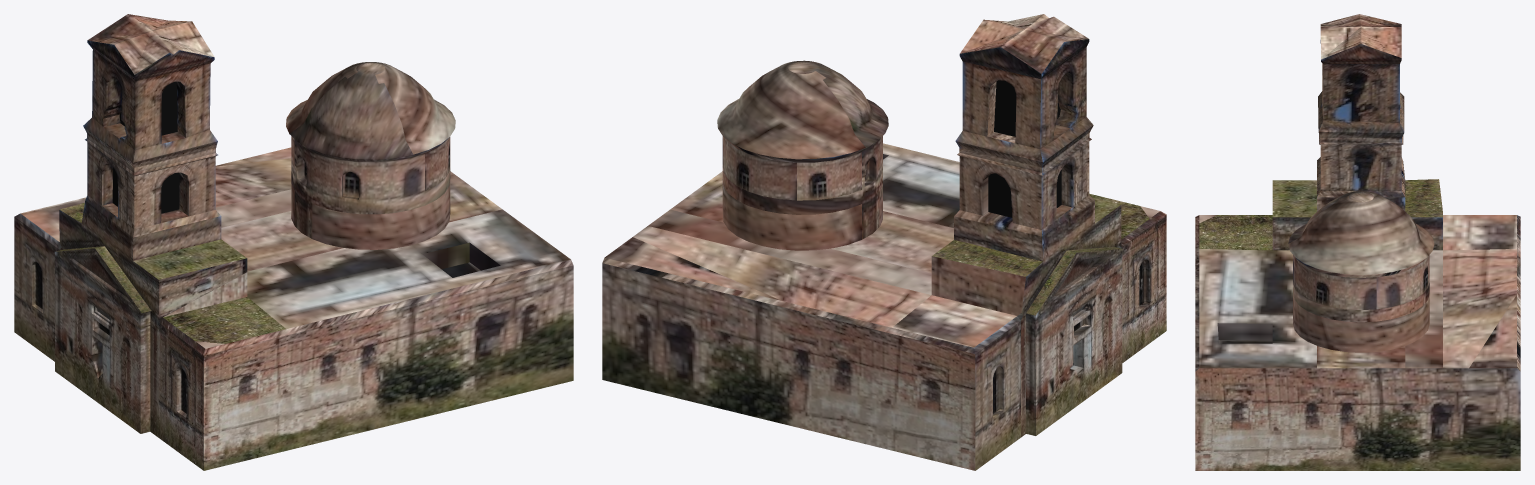
Rendered from obj_church.glb.
The picture shows the model from 3 angles, left to right: view 1: azimuth 30°, elevation 25°; view 2: azimuth 150°, elevation 25°; view 3: azimuth 270°, elevation 25°; orthographic projection. The views are drawn at different scales.
Parts seen in each view (by area): view 1: body|Material.001, body|Material.002; view 2: body|Material.001, body|Material.002; view 3: body|Material.001.
Part boxes in pixels (bbox=[...]): body|Material.001: bbox=[14, 14, 573, 470]; body|Material.002: bbox=[112, 81, 179, 213]; body|Material.001: bbox=[602, 14, 1166, 470]; body|Material.002: bbox=[988, 80, 1061, 217]; body|Material.001: bbox=[1195, 14, 1520, 470].
Bounding box in the file's own units: 24.37 × 22 × 21.09.
Materials: 2 (1 with a texture image).
